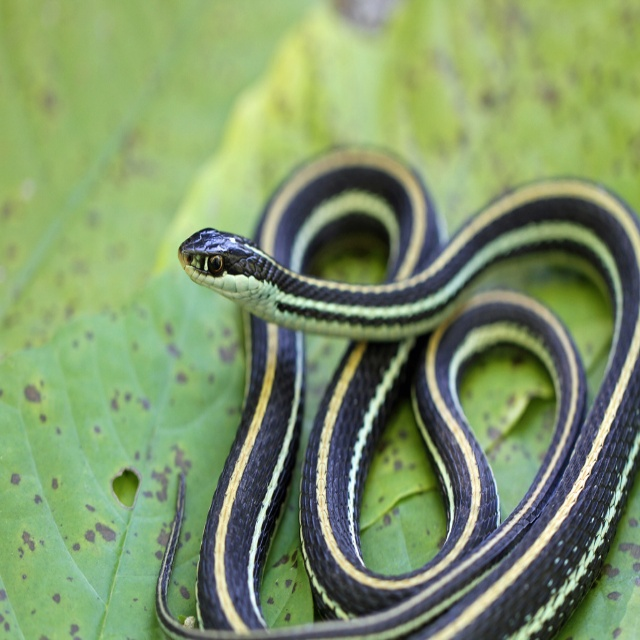Snake: (157, 143, 640, 639)
